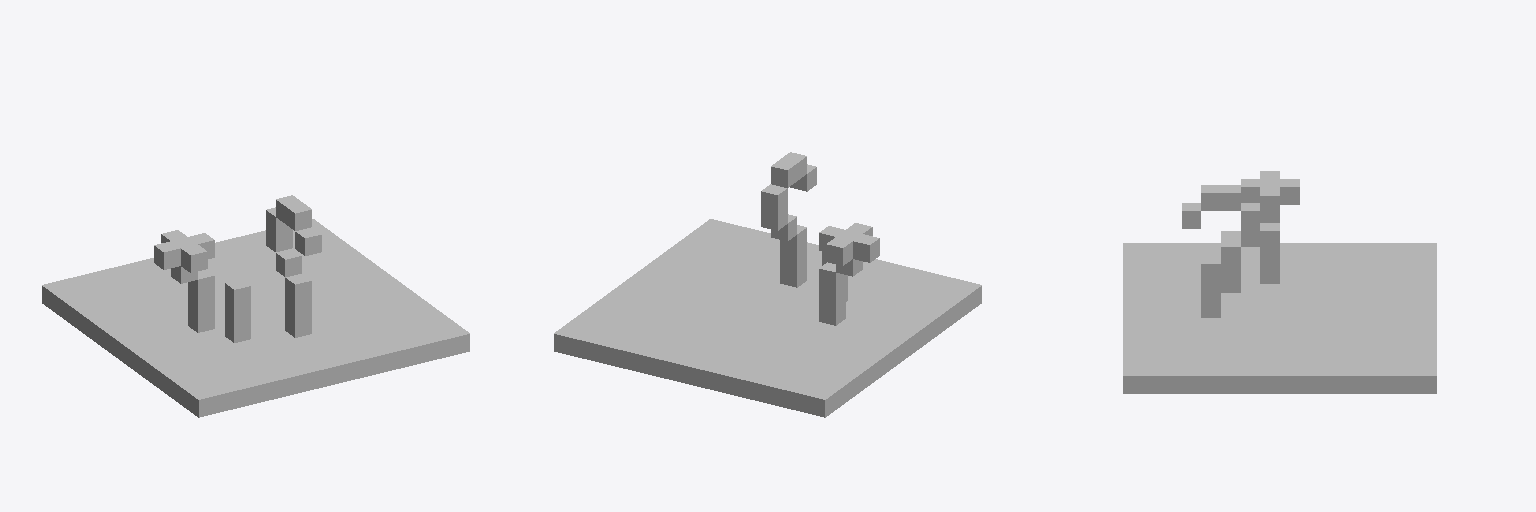
Rendered from floor5.obj.
3 renders of one model, left to right at view 1: azimuth 30°, elevation 25°; view 2: azimuth 150°, elevation 25°; view 3: azimuth 270°, elevation 25°, orthographic.
Bounding box in the file's own units: 16 × 8 × 16.